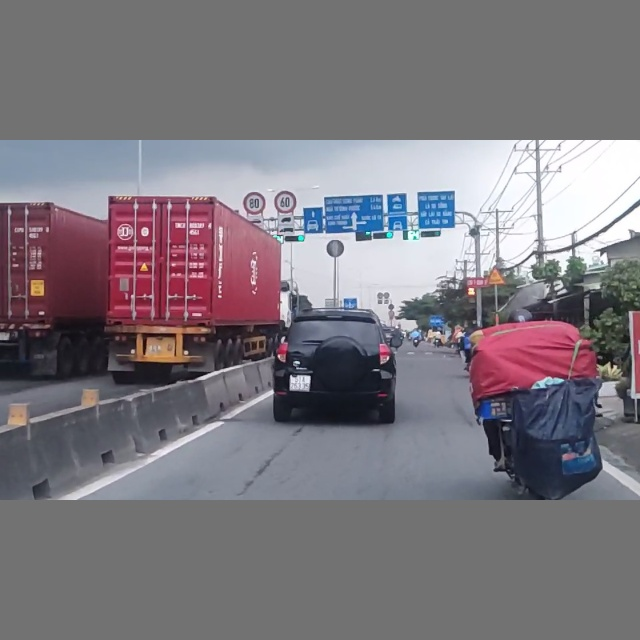P.127*60: (273, 190, 297, 214)
P.127*80: (243, 193, 266, 214)
W.245a: (486, 267, 506, 285)
